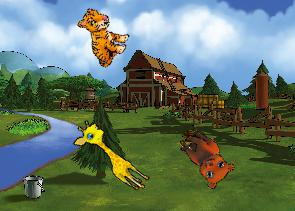bear: (169, 126, 240, 193)
giraffe: (68, 116, 158, 194)
tiger: (66, 4, 135, 71)
